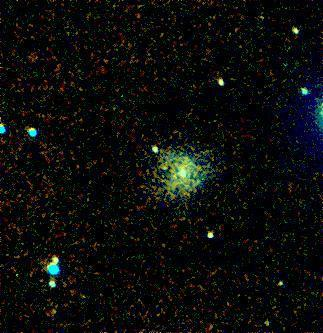star: (151, 157, 181, 187)
